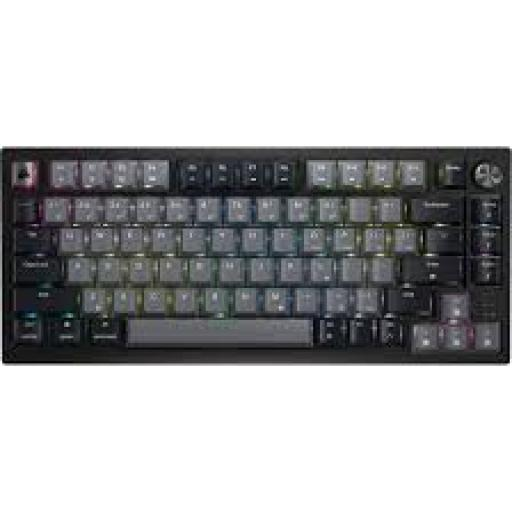keyboard: (2, 149, 507, 361)
